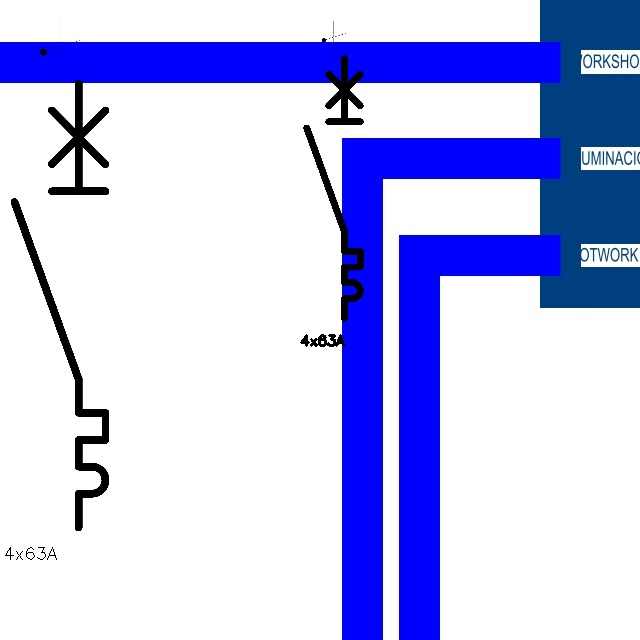interruptor_termomagnetico: (3, 71, 117, 538), (300, 51, 367, 324)
